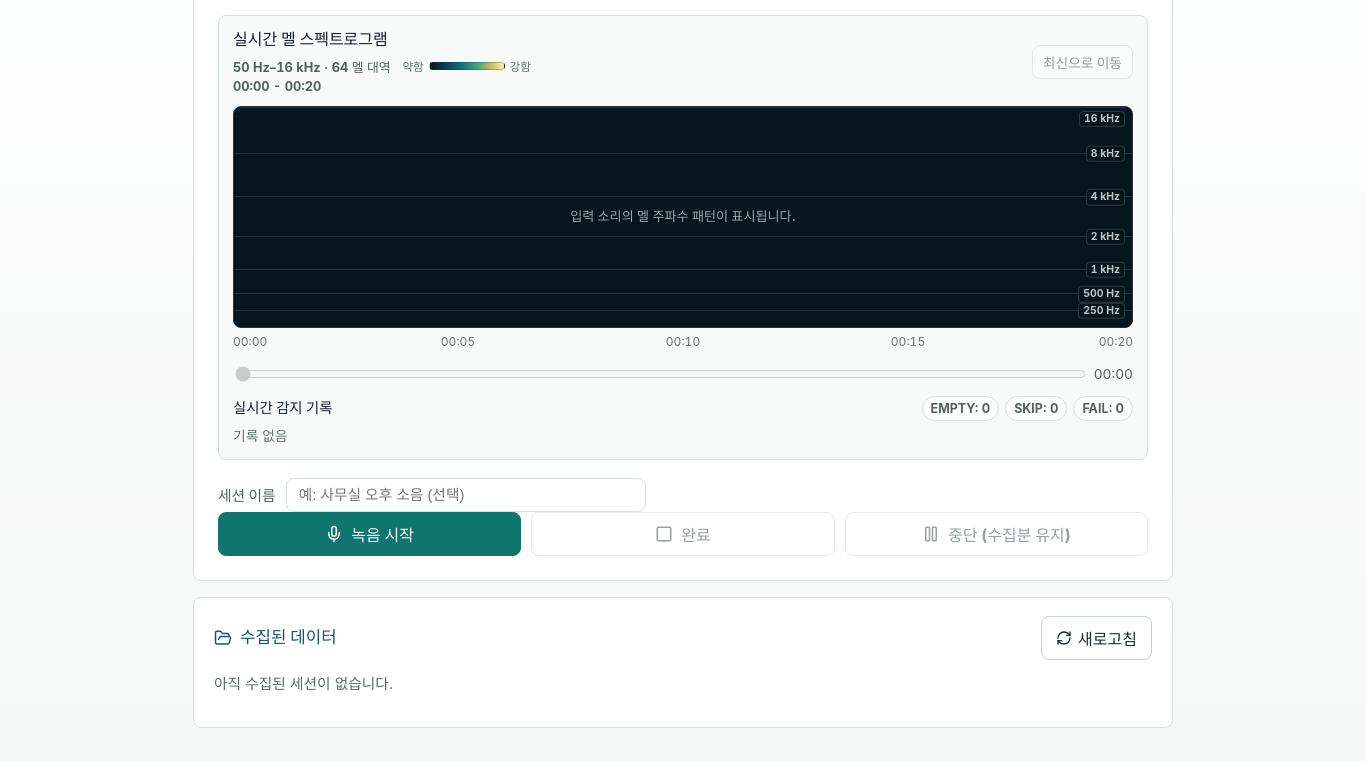
Test: App › shows monotonic segment decisions while recording when responses arrive out of order
The image size is (1366, 761).
(page scrolled)
Click the button "녹음 시작": x=370, y=534 left=218, top=512, right=521, bottom=556
(page scrolled)
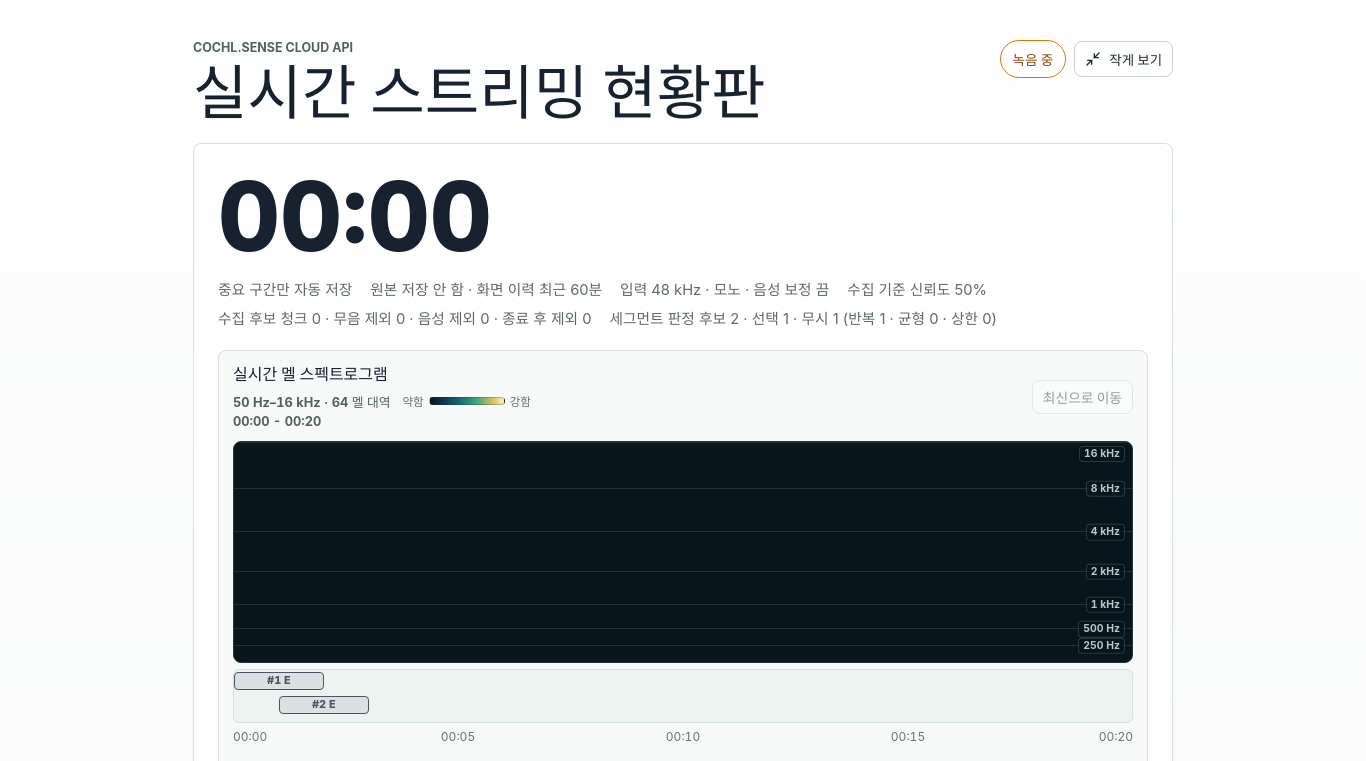
Now the text "녹음 중" is shown, box left=1000, top=40, right=1066, bottom=78
Now the text "세그먼트 판정 후보 2 · 선택 1 · 무시 1 (반복 1 · 균형 0 · 상한 0)" is shown, box left=610, top=307, right=997, bottom=328
